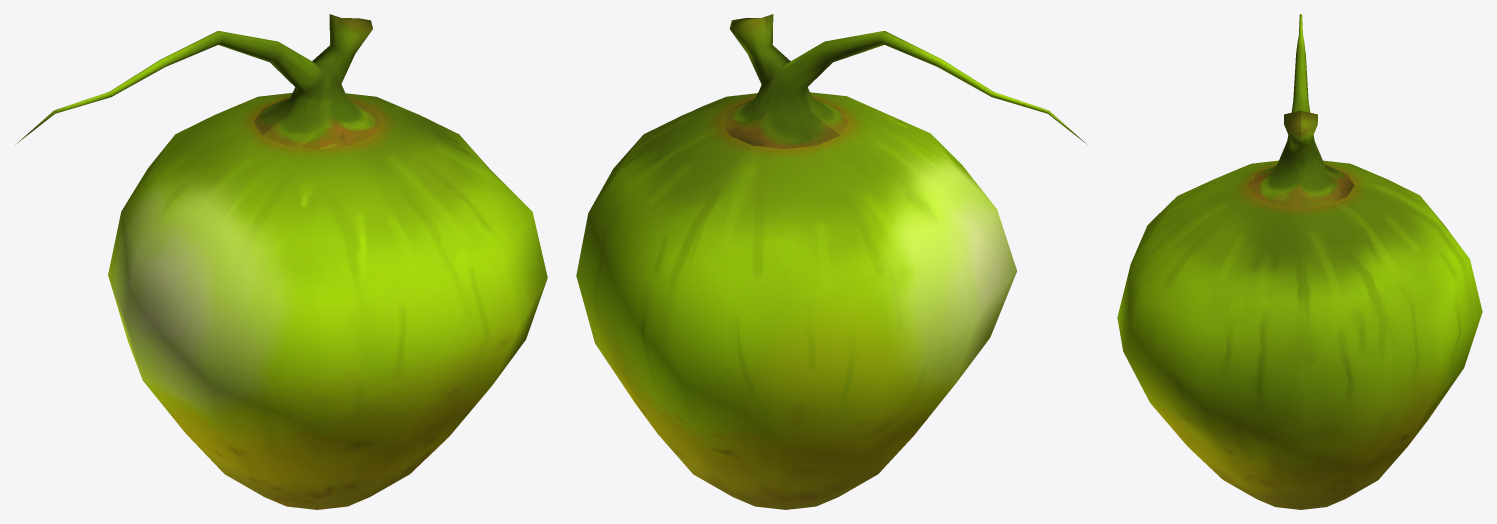
Rendered from coconut.fbx.
The picture shows the model from 3 angles, left to right: view 1: azimuth 30°, elevation 25°; view 2: azimuth 150°, elevation 25°; view 3: azimuth 270°, elevation 25°; orthographic projection. The views are drawn at different scales.
Parts seen in each view (by area): view 1: coconut; view 2: coconut; view 3: coconut.
Boxes of the visible parts, x1,y1,x2,y2 form: coconut: (15,14,547,509); coconut: (576,14,1087,509); coconut: (1117,14,1482,509).
Bounding box in the file's own units: 4.75 × 4.57 × 3.67.
